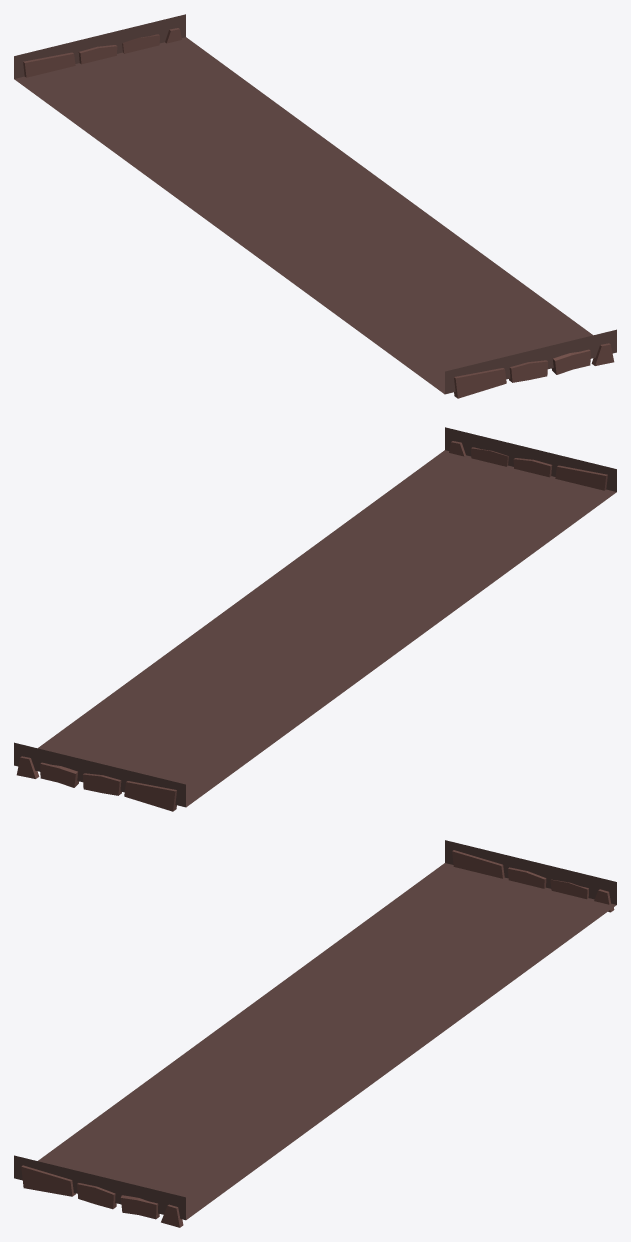
Rendered from bridgeOpeningConnector_module.fbx.
The picture shows the model from 3 angles, top to bottom: view 1: azimuth 30°, elevation 25°; view 2: azimuth 150°, elevation 25°; view 3: azimuth 330°, elevation 25°; orthographic projection.
Parts seen in each view (by area): view 1: Plane.248; view 2: Plane.248; view 3: Plane.248.
Part boxes in pixels (x1,y1,x2,y2): Plane.248: (14,14,616,398); Plane.248: (14,427,616,811); Plane.248: (14,840,616,1227).
Size of the model in its own units: 200 by 33.67 by 874.
